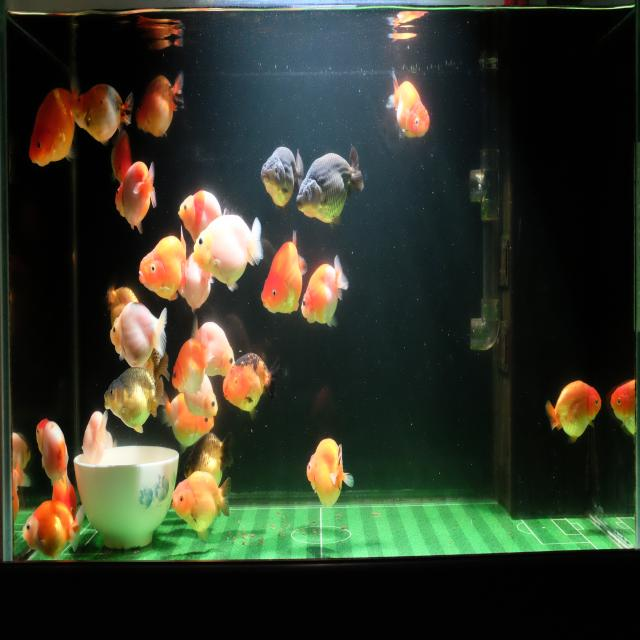Goldfish: (294, 143, 366, 230), (192, 212, 264, 296), (27, 71, 85, 170), (221, 351, 284, 424), (102, 364, 166, 434), (169, 471, 231, 543), (259, 230, 307, 317), (73, 79, 135, 146), (138, 224, 187, 308), (300, 249, 349, 332), (109, 300, 167, 370), (22, 498, 84, 560), (544, 378, 603, 443), (305, 435, 355, 511), (160, 389, 215, 457), (385, 64, 431, 145), (136, 68, 186, 140), (114, 158, 158, 236), (260, 143, 304, 216), (187, 314, 236, 378), (169, 327, 213, 397), (175, 189, 228, 244), (184, 431, 234, 486), (80, 406, 118, 474), (36, 414, 70, 485), (178, 251, 215, 313), (609, 376, 640, 440), (183, 373, 218, 419), (110, 126, 134, 188)
